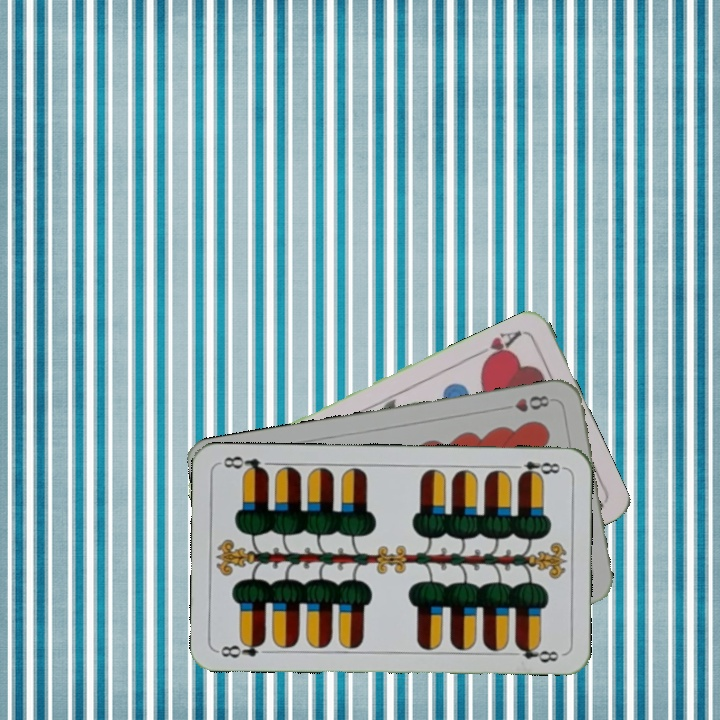E8: (507, 457, 566, 480), (215, 636, 268, 661)
H8: (511, 391, 552, 415)
HA: (470, 326, 526, 368)
